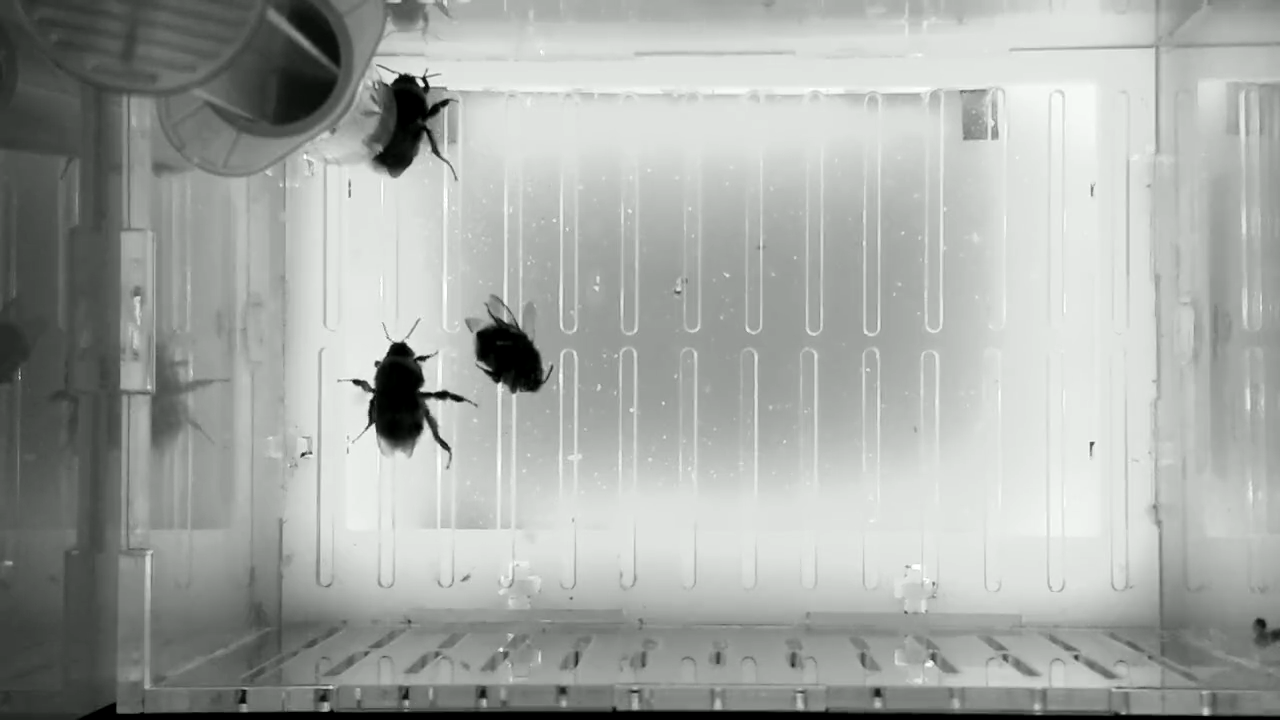bee_alive: (336, 315, 481, 472), (361, 59, 464, 182)
bee_dead: (458, 292, 558, 397)
feeder: (292, 61, 400, 169)
